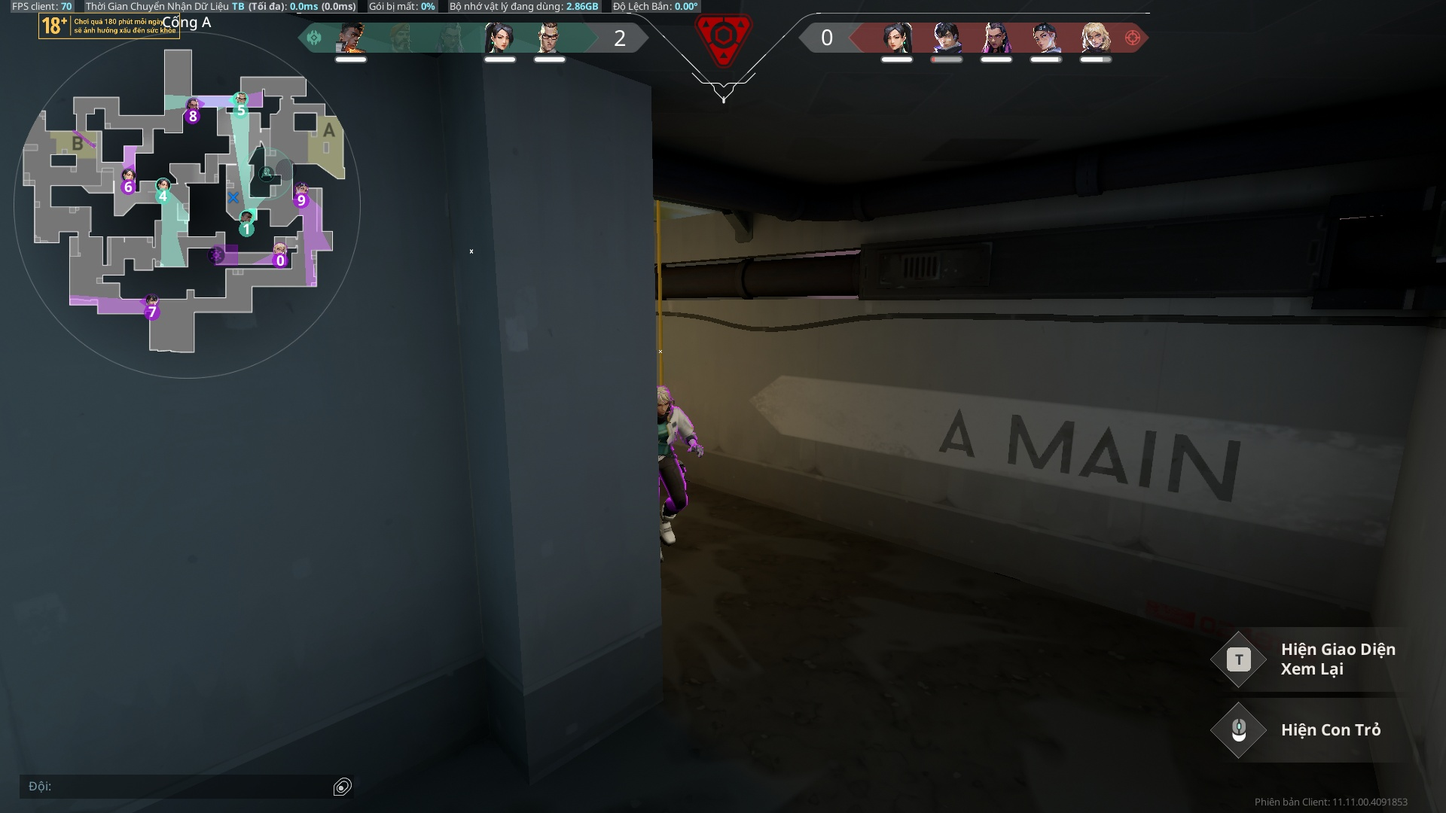body: (656, 409, 697, 454)
head: (656, 386, 670, 415)
